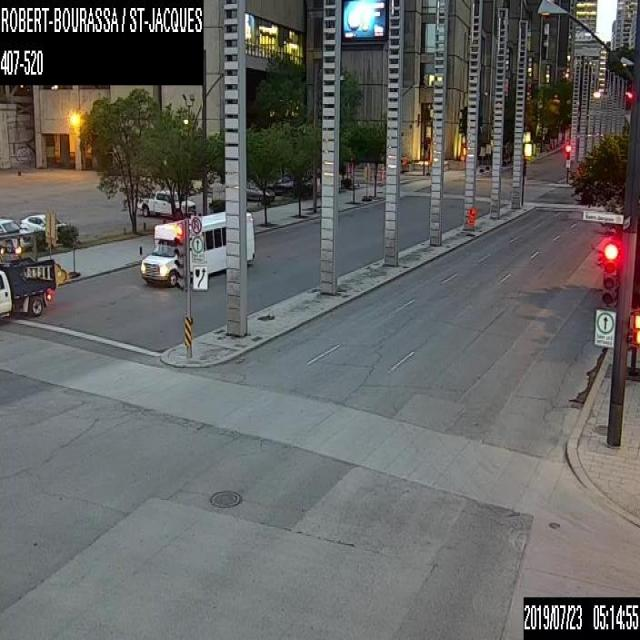construction: (466, 206, 474, 233)
vehicle: (138, 206, 253, 286), (0, 254, 66, 320), (136, 188, 194, 220), (20, 212, 67, 238), (0, 216, 30, 248), (246, 181, 274, 200), (266, 176, 294, 194)
